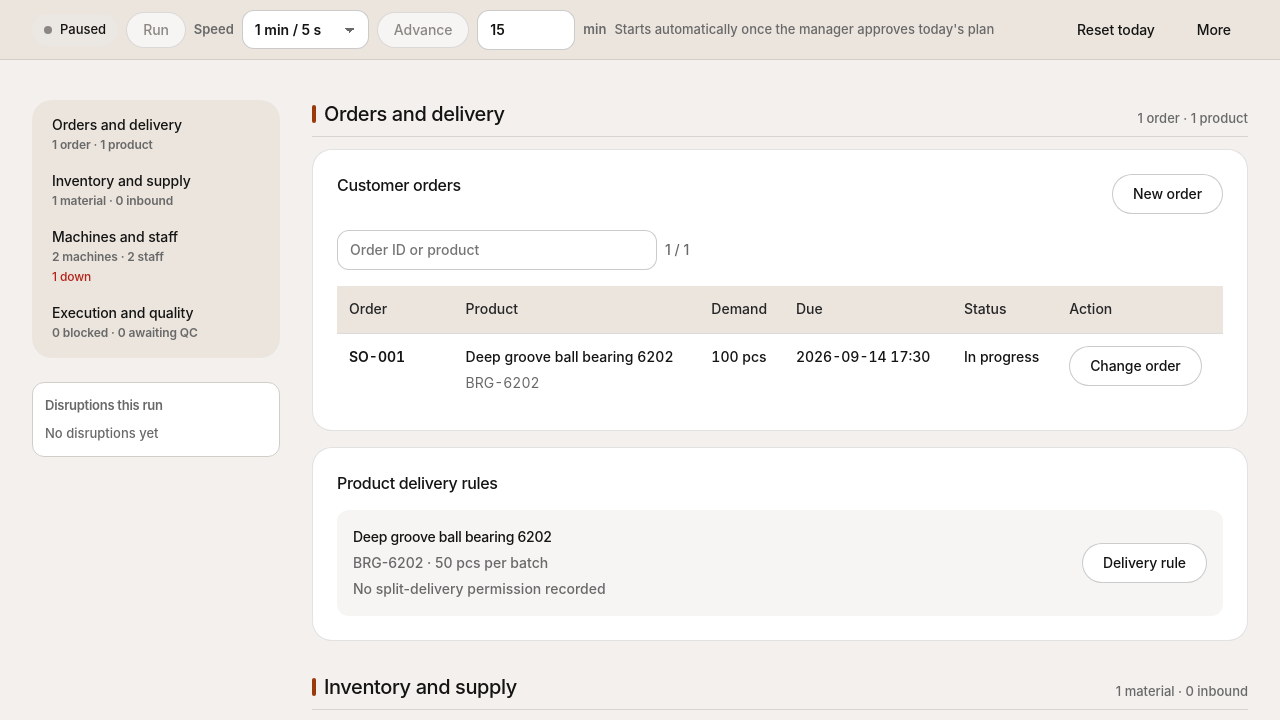
Test: a IN_PROGRESS order can be cancelled and still says WIP continues and qualified surplus goes to stock
Click the button with aria-label "Change order SO-001". click: x=1135, y=366
box: [1069, 346, 1202, 386]
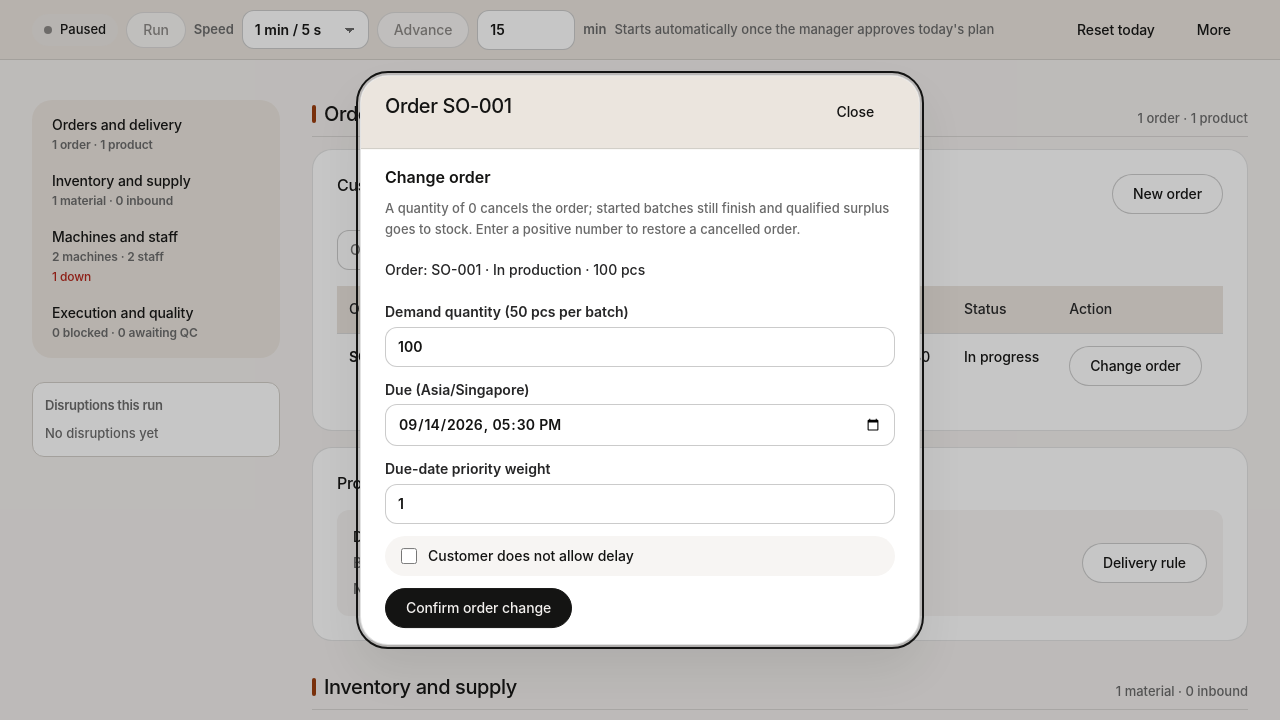
Check: the text "started batches still finish" is shown, box [385, 200, 889, 237]
Check: the text "Order: SO-001 · In production · 100 pcs" is shown, box [385, 262, 645, 278]
Replace the text in the number field labelled "Demand quantity (50 pcs per batch)" with "0". click: x=640, y=347
box: [385, 327, 895, 367]
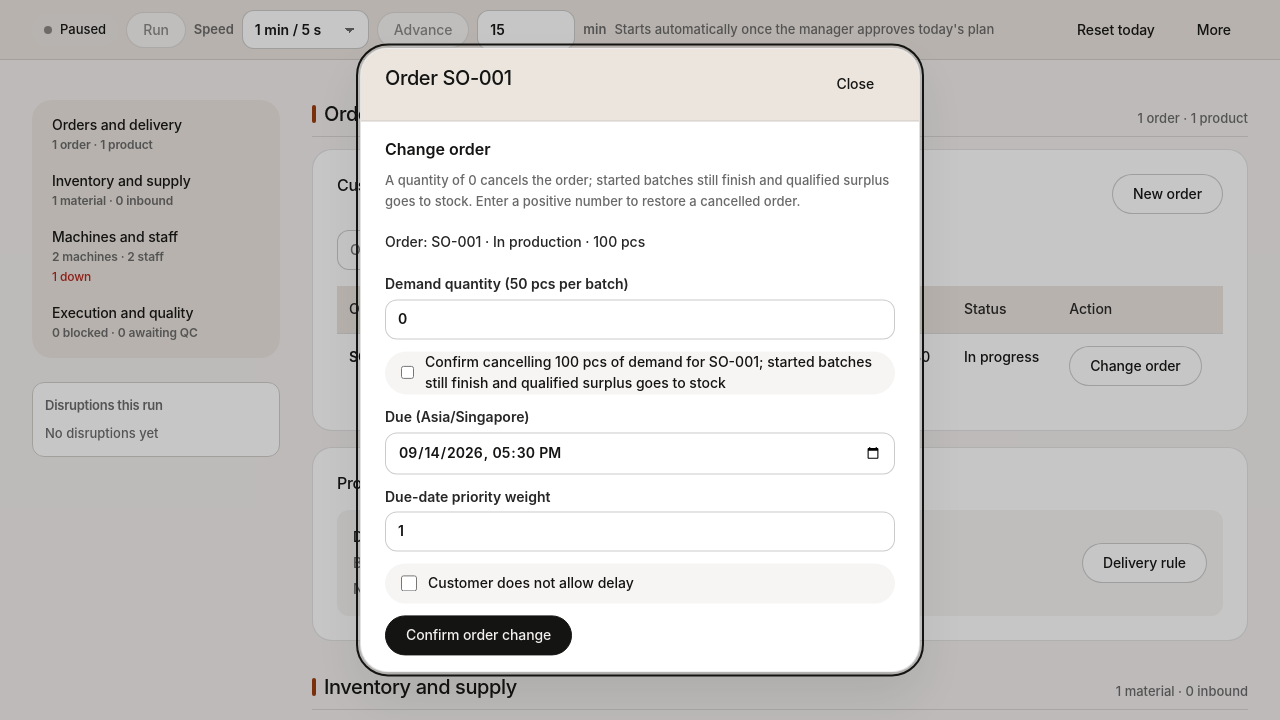
Click the 1st checkbox. click: x=408, y=373
box: [401, 365, 414, 381]
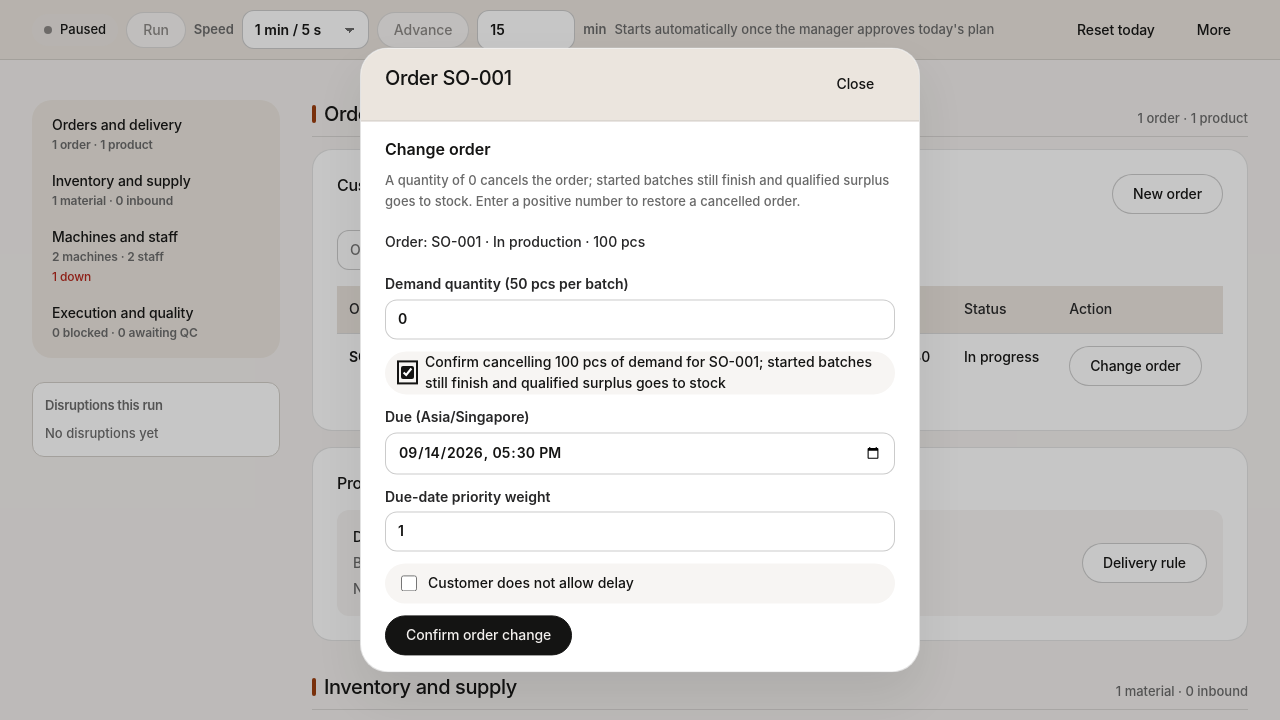
Click the button "Confirm order change". click: x=479, y=636
box: [385, 616, 572, 656]
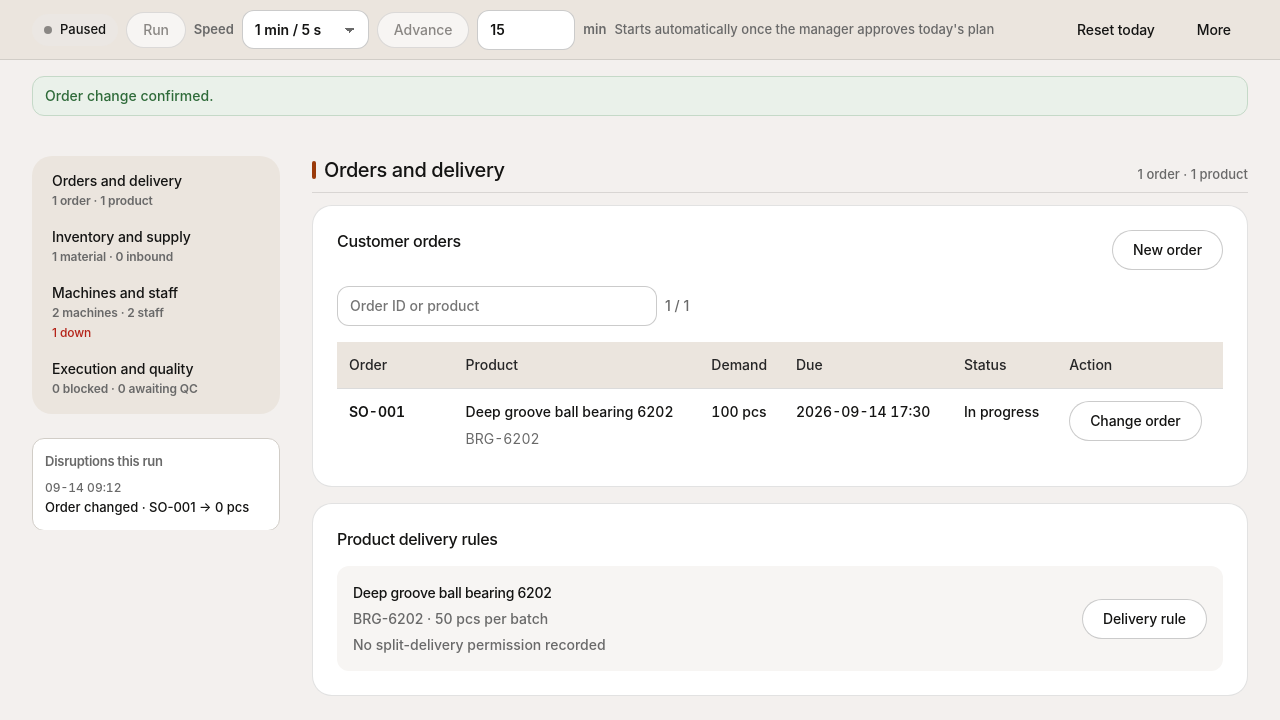
Check: the dialog is gone
